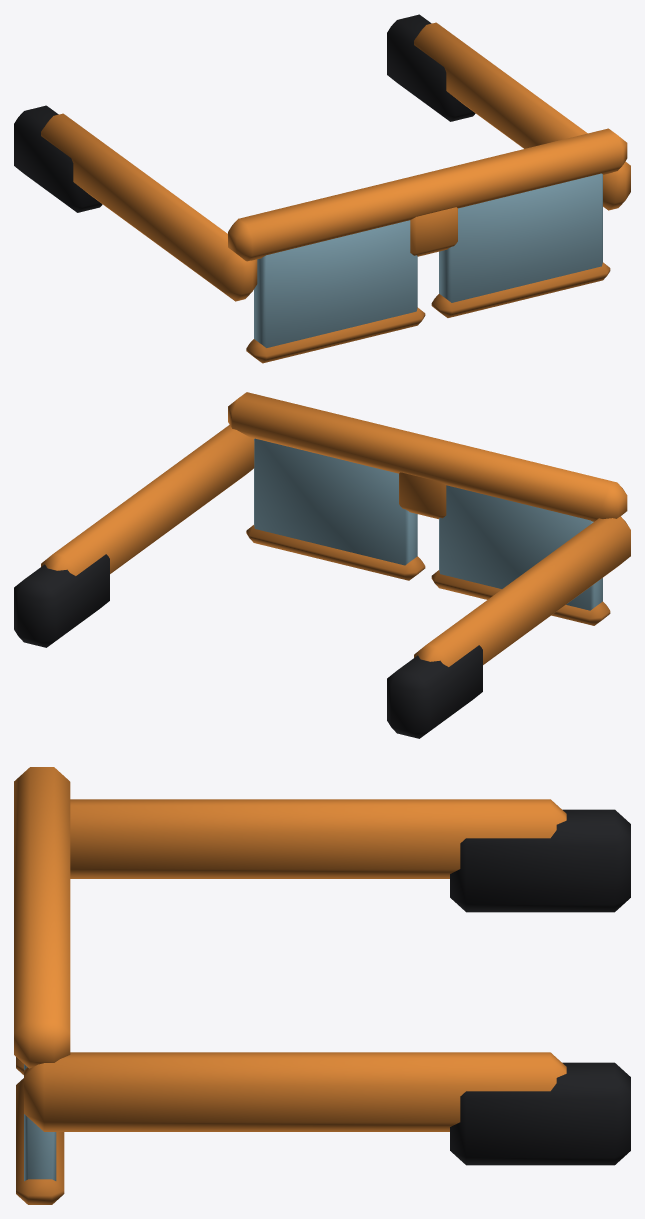
The model's file is SM_SafetyGlasses_01.glb.
The picture shows the model from 3 angles, top to bottom: view 1: azimuth 30°, elevation 25°; view 2: azimuth 150°, elevation 25°; view 3: azimuth 270°, elevation 25°; orthographic projection. The views are drawn at different scales.
Parts seen in each view (by area): view 1: SM_SafetyGlasses_01; view 2: SM_SafetyGlasses_01; view 3: SM_SafetyGlasses_01.
Part boxes in pixels (left/top/right/bottom): SM_SafetyGlasses_01: left=14, top=14, right=630, bottom=363; SM_SafetyGlasses_01: left=14, top=392, right=630, bottom=738; SM_SafetyGlasses_01: left=14, top=767, right=630, bottom=1204.
Bounding box in the file's own units: 0.166 × 0.054 × 0.1535.
Materials: 1 (1 with a texture image).
